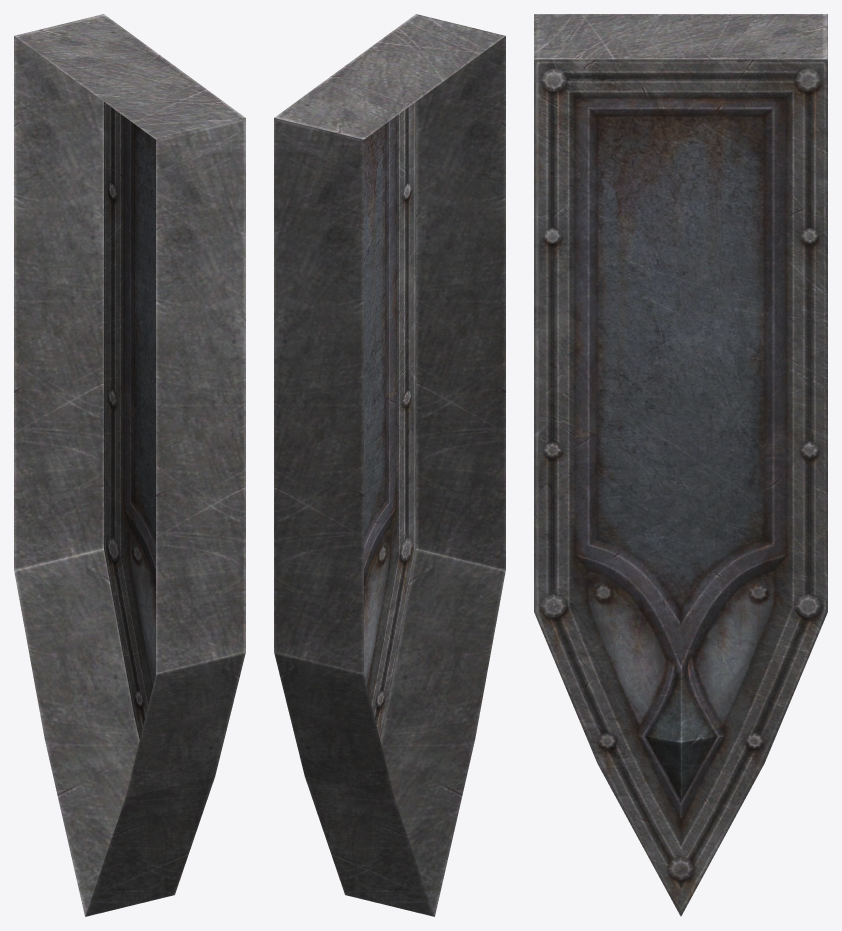
The model's file is bg_lut_lucastle_castlearms02_sm_bjh.FBX.
3 views of the same model, side by side, from view 1: azimuth 30°, elevation 25°; view 2: azimuth 150°, elevation 25°; view 3: azimuth 270°, elevation 25° (orthographic). The views are drawn at different scales.
Parts seen in each view (by area): view 1: bg_lut_lucastle_castlearms02_sm_bjh; view 2: bg_lut_lucastle_castlearms02_sm_bjh; view 3: bg_lut_lucastle_castlearms02_sm_bjh.
Part boxes in pixels (<box>): bg_lut_lucastle_castlearms02_sm_bjh: <box>14,14,245,916</box>; bg_lut_lucastle_castlearms02_sm_bjh: <box>274,14,505,916</box>; bg_lut_lucastle_castlearms02_sm_bjh: <box>534,14,827,916</box>.
Bounding box in the file's own units: 28.57 × 224 × 69.45.
